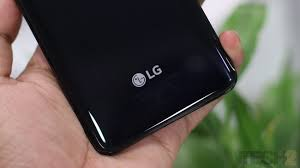lg: (10, 1, 241, 154)
